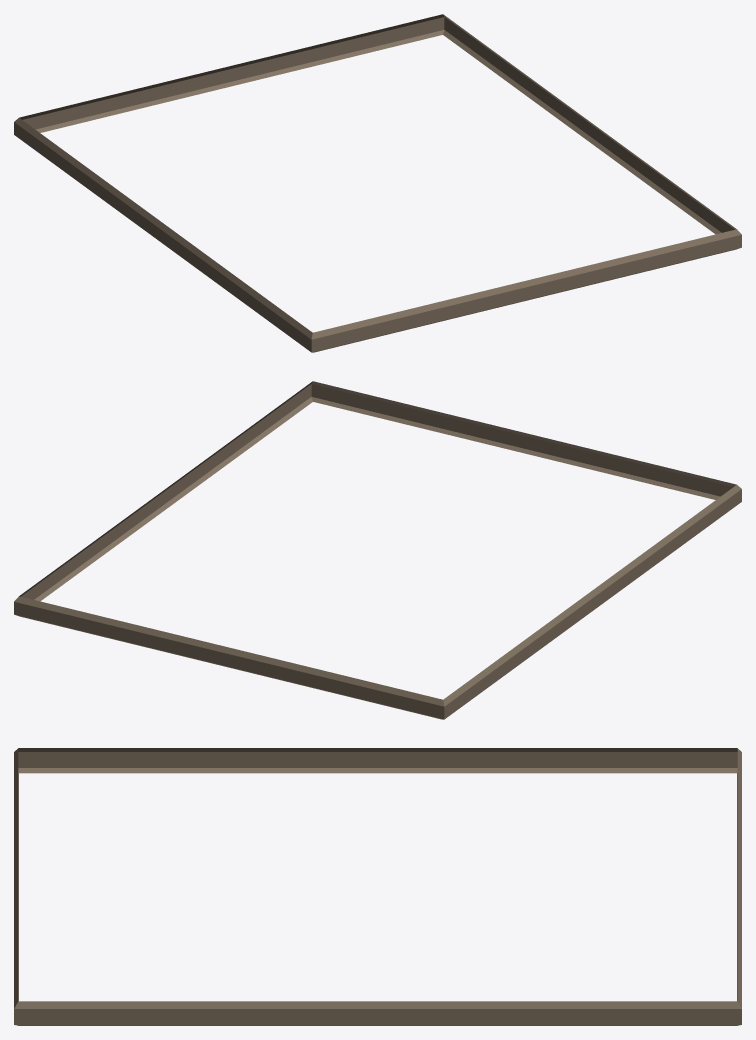
The model's file is SM_Bldg_City_Apartment_T1_Cornice_04.fbx.
The picture shows the model from 3 angles, top to bottom: view 1: azimuth 30°, elevation 25°; view 2: azimuth 150°, elevation 25°; view 3: azimuth 270°, elevation 25°; orthographic projection. The views are drawn at different scales.
Visible parts, largest first — view 1: SM_Bldg_City_Apartment_T1_Cornice_04; view 2: SM_Bldg_City_Apartment_T1_Cornice_04; view 3: SM_Bldg_City_Apartment_T1_Cornice_04.
Part boxes in pixels (x1,y1,x2,y2): SM_Bldg_City_Apartment_T1_Cornice_04: (14,14,741,352); SM_Bldg_City_Apartment_T1_Cornice_04: (14,381,741,719); SM_Bldg_City_Apartment_T1_Cornice_04: (14,748,741,1025).
Size of the model in its own units: 507 by 23 by 608.
